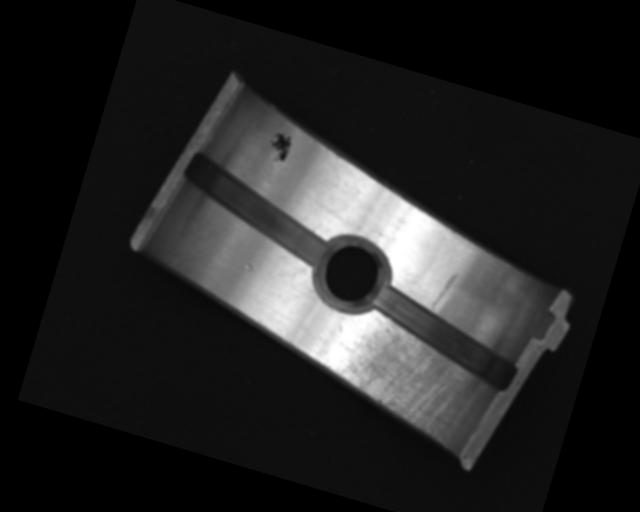blot: (263, 124, 296, 165)
bruise: (242, 262, 256, 273)
gap: (169, 148, 348, 271), (359, 281, 530, 394)
hole: (305, 231, 397, 320)
nick: (429, 268, 460, 317), (284, 281, 318, 310)
scratch: (319, 307, 494, 455)
